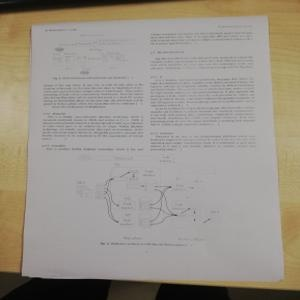diagram: (67, 151, 245, 242), (43, 32, 140, 82)
text: (148, 72, 256, 151), (43, 82, 146, 141), (144, 48, 254, 73), (149, 27, 254, 43)
